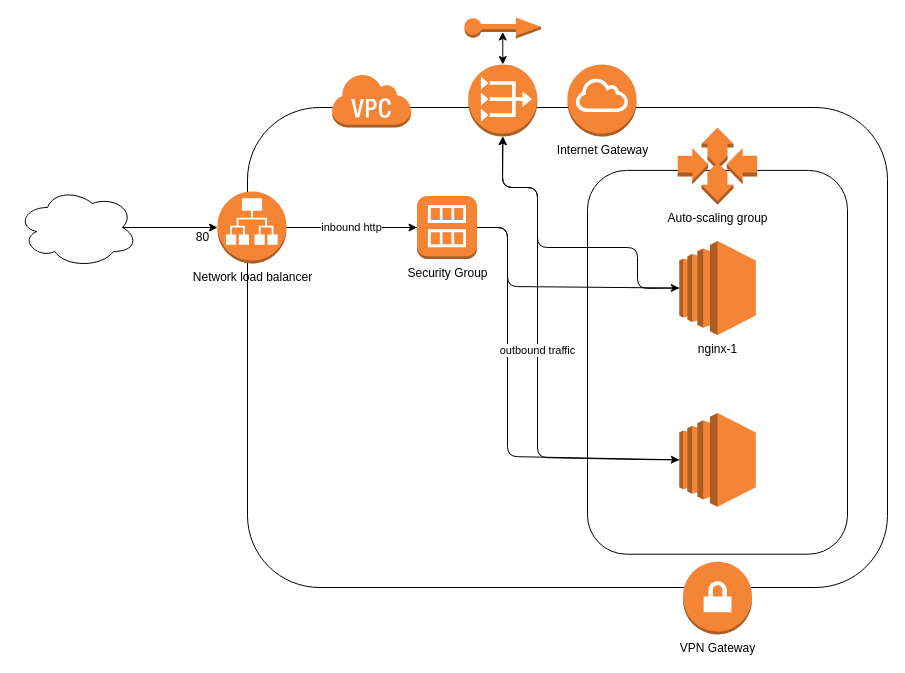
The diagram is 905 pixels wide and 673 high, and some of its shapes have lost their labels. Here are the shapes that lost their labels. From the top down, the box of each, then its label:
(467, 64, 537, 136): Nat Gateway
(16, 186, 138, 268): internet
(678, 412, 756, 507): nginx-..n
